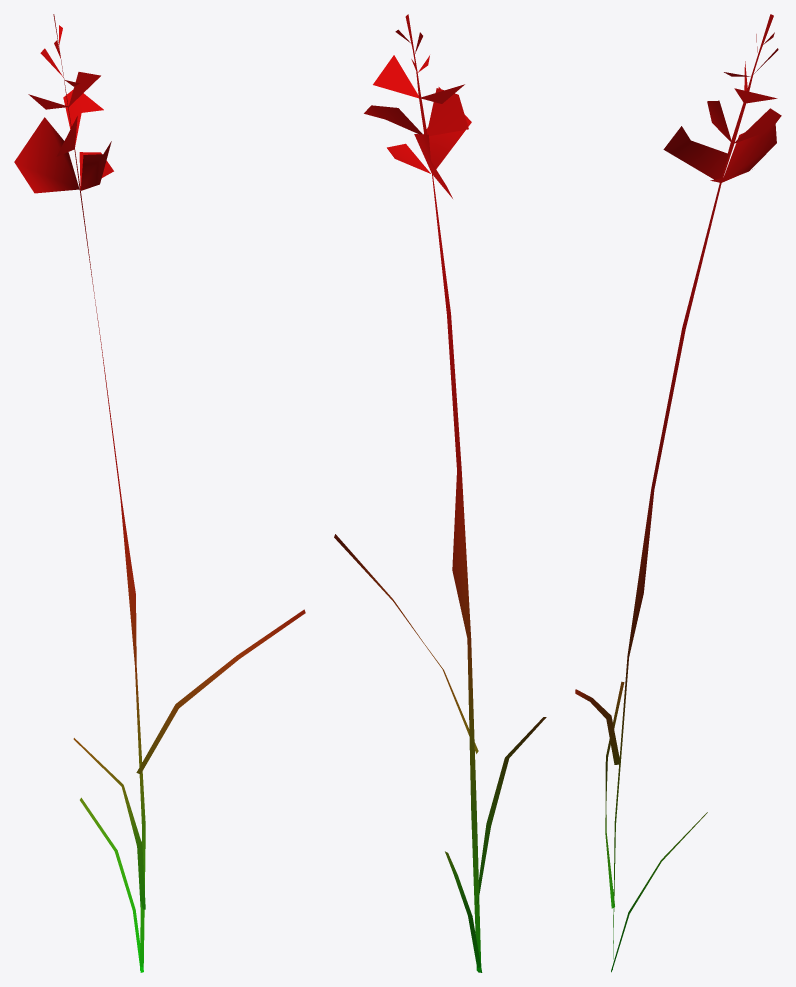
The model's file is Tundra Grass_LOD5_Var11_wk2oaeyqx.fbx.
3 renders of one model, left to right at view 1: azimuth 30°, elevation 25°; view 2: azimuth 150°, elevation 25°; view 3: azimuth 270°, elevation 25°, orthographic. The views are drawn at different scales.
Parts seen in each view (by area): view 1: _l4a9_Var11_LOD5; view 2: _l4a9_Var11_LOD5; view 3: _l4a9_Var11_LOD5.
Part boxes in pixels (x1,y1,x2,y2): _l4a9_Var11_LOD5: (14,14,305,972); _l4a9_Var11_LOD5: (334,14,546,972); _l4a9_Var11_LOD5: (575,14,781,972).
Bounding box in the file's own units: 13.51 × 55.66 × 10.95.
